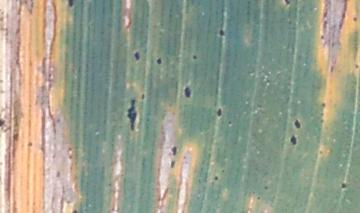tarspot: (125, 93, 139, 133), (183, 84, 193, 100), (289, 133, 299, 147), (292, 117, 302, 130), (214, 105, 224, 118), (132, 48, 141, 62), (171, 144, 179, 159), (339, 180, 349, 190), (217, 28, 226, 38), (169, 159, 177, 170), (155, 56, 163, 67), (53, 170, 61, 181), (225, 118, 233, 128), (140, 90, 147, 101), (66, 1, 74, 9), (26, 140, 33, 149), (213, 173, 219, 182), (321, 100, 327, 109), (1, 118, 6, 128), (263, 185, 270, 192), (285, 1, 292, 8), (192, 53, 198, 61), (352, 15, 358, 23), (318, 150, 324, 157), (70, 209, 78, 213)
